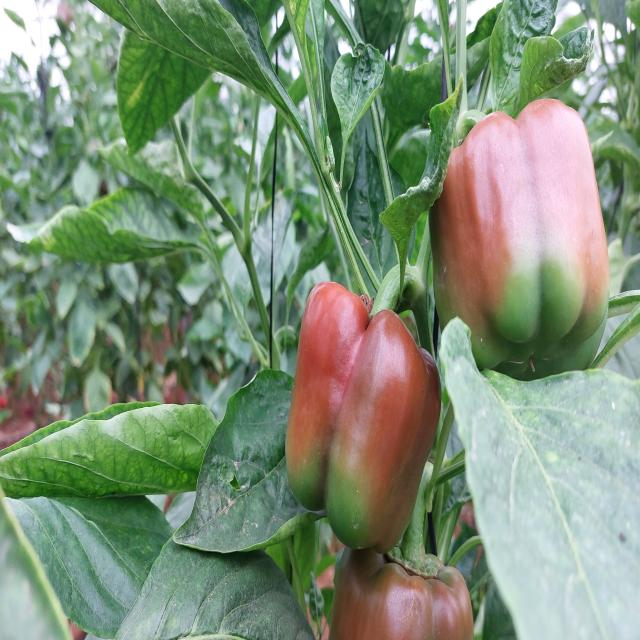BrownishRed--Can-be-Harvested: (436, 140, 613, 381), (295, 280, 437, 548), (332, 567, 484, 640)
